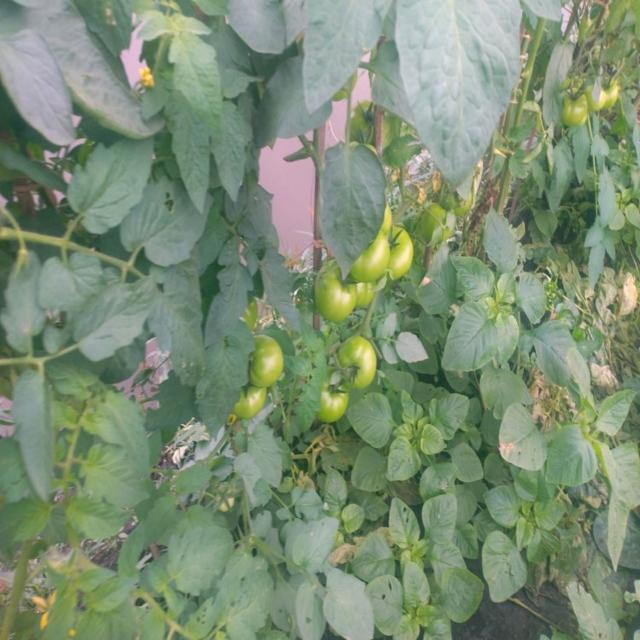tomato: (337, 338, 378, 390), (314, 263, 353, 316), (250, 330, 283, 385), (387, 228, 414, 279), (320, 387, 355, 426), (236, 387, 273, 422), (351, 99, 377, 142), (359, 243, 385, 282), (567, 88, 589, 127), (604, 77, 623, 113), (355, 280, 374, 309)
